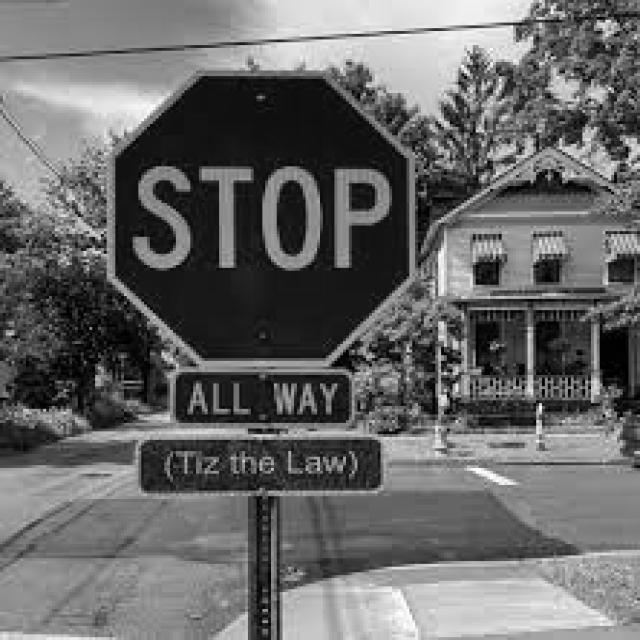stop sign: (100, 65, 414, 496)
